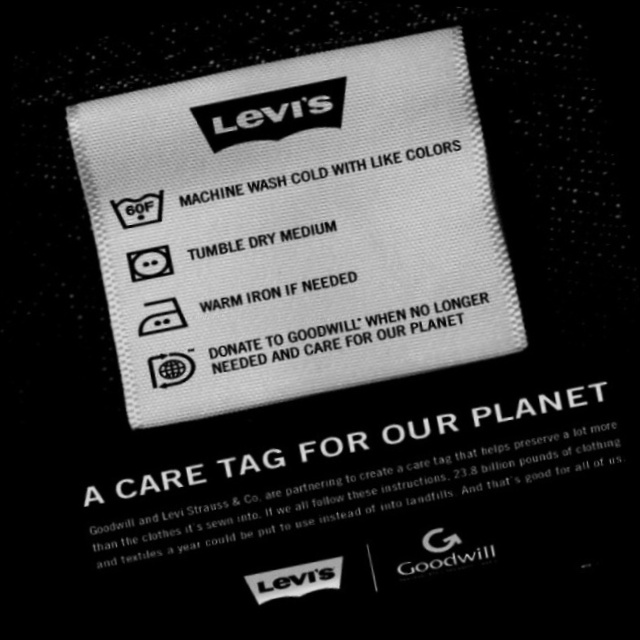30C: (103, 176, 177, 240)
iron_medium: (126, 286, 197, 347)
tumble_dry_medium: (117, 237, 184, 292)
